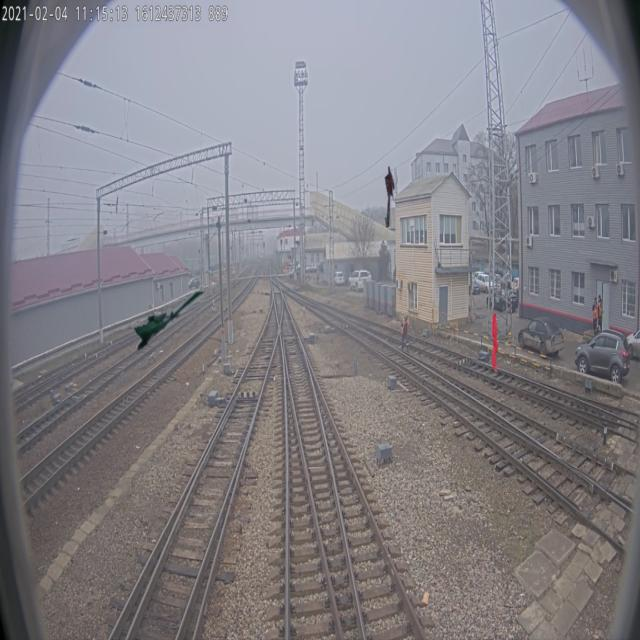floating object: (130, 288, 208, 352), (384, 164, 395, 228), (492, 310, 499, 374)
